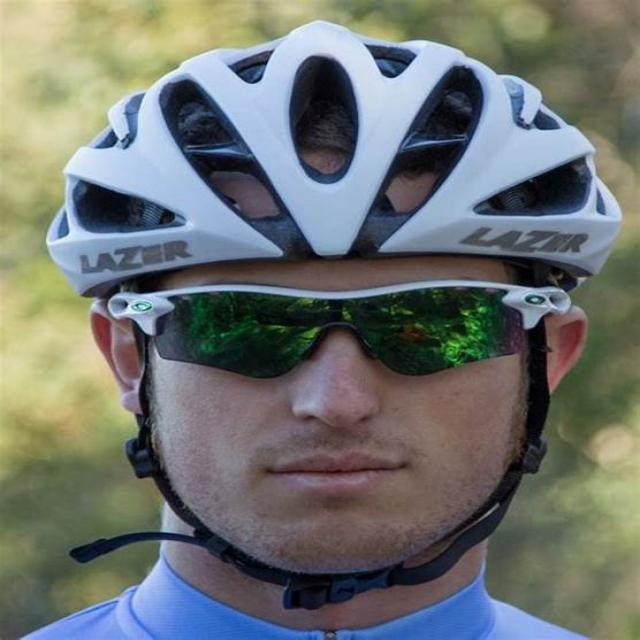illegal_helmet: (32, 16, 627, 616)
